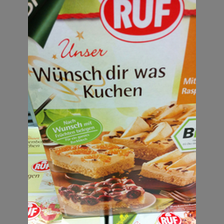cake: (28, 1, 195, 220)
